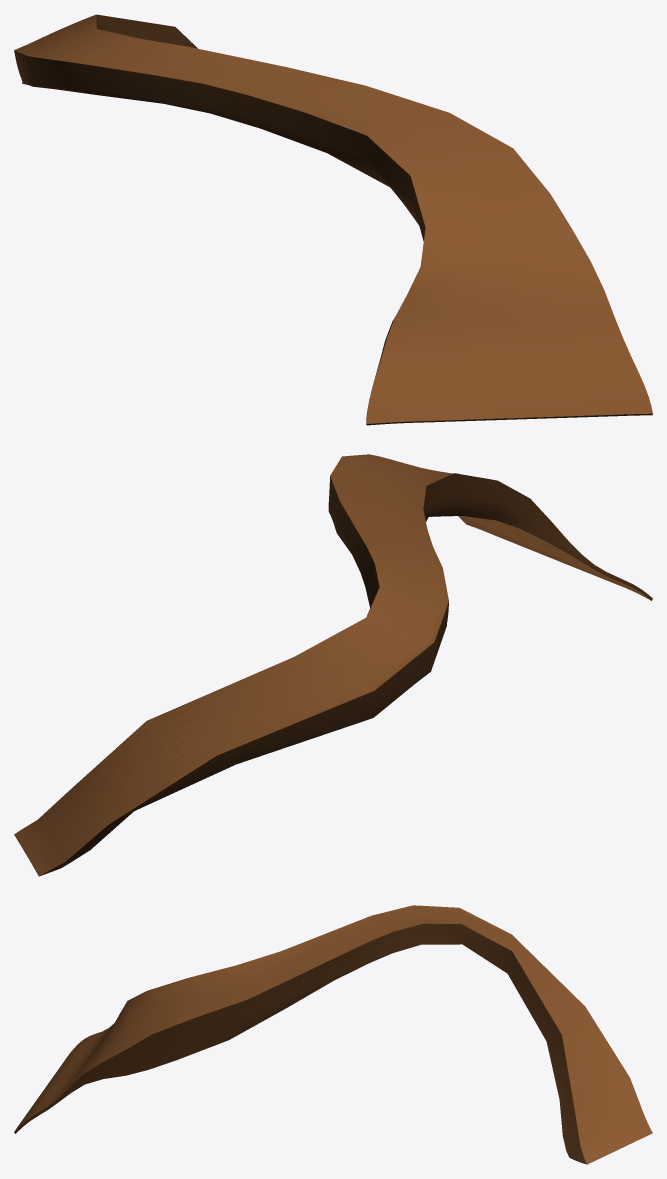
File: RAMPASHAPADA_FODASSE.fbx
3 renders of one model, top to bottom at view 1: azimuth 30°, elevation 25°; view 2: azimuth 150°, elevation 25°; view 3: azimuth 270°, elevation 25°, orthographic. The views are drawn at different scales.
Parts seen in each view (by area): view 1: pCube1; view 2: pCube1; view 3: pCube1.
Part boxes in pixels (x1,y1,x2,y2): pCube1: (14, 14, 652, 425); pCube1: (14, 454, 652, 876); pCube1: (14, 905, 652, 1164).
Size of the model in its own units: 18.32 by 11.89 by 43.93.
